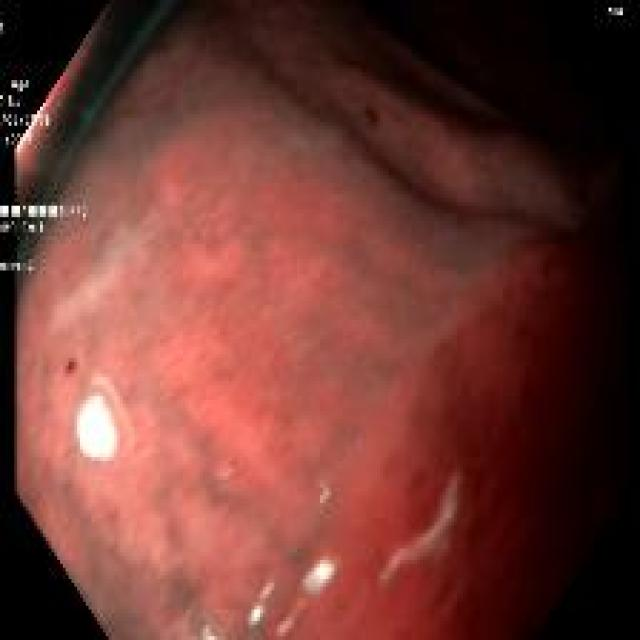color misalignment: (1, 76, 55, 146), (0, 200, 90, 237), (1, 260, 38, 272), (607, 4, 624, 20), (1, 22, 8, 39)
contrast: (336, 3, 581, 186)
specularity: (76, 396, 118, 456), (16, 92, 52, 156), (305, 562, 335, 598), (247, 609, 262, 627)
